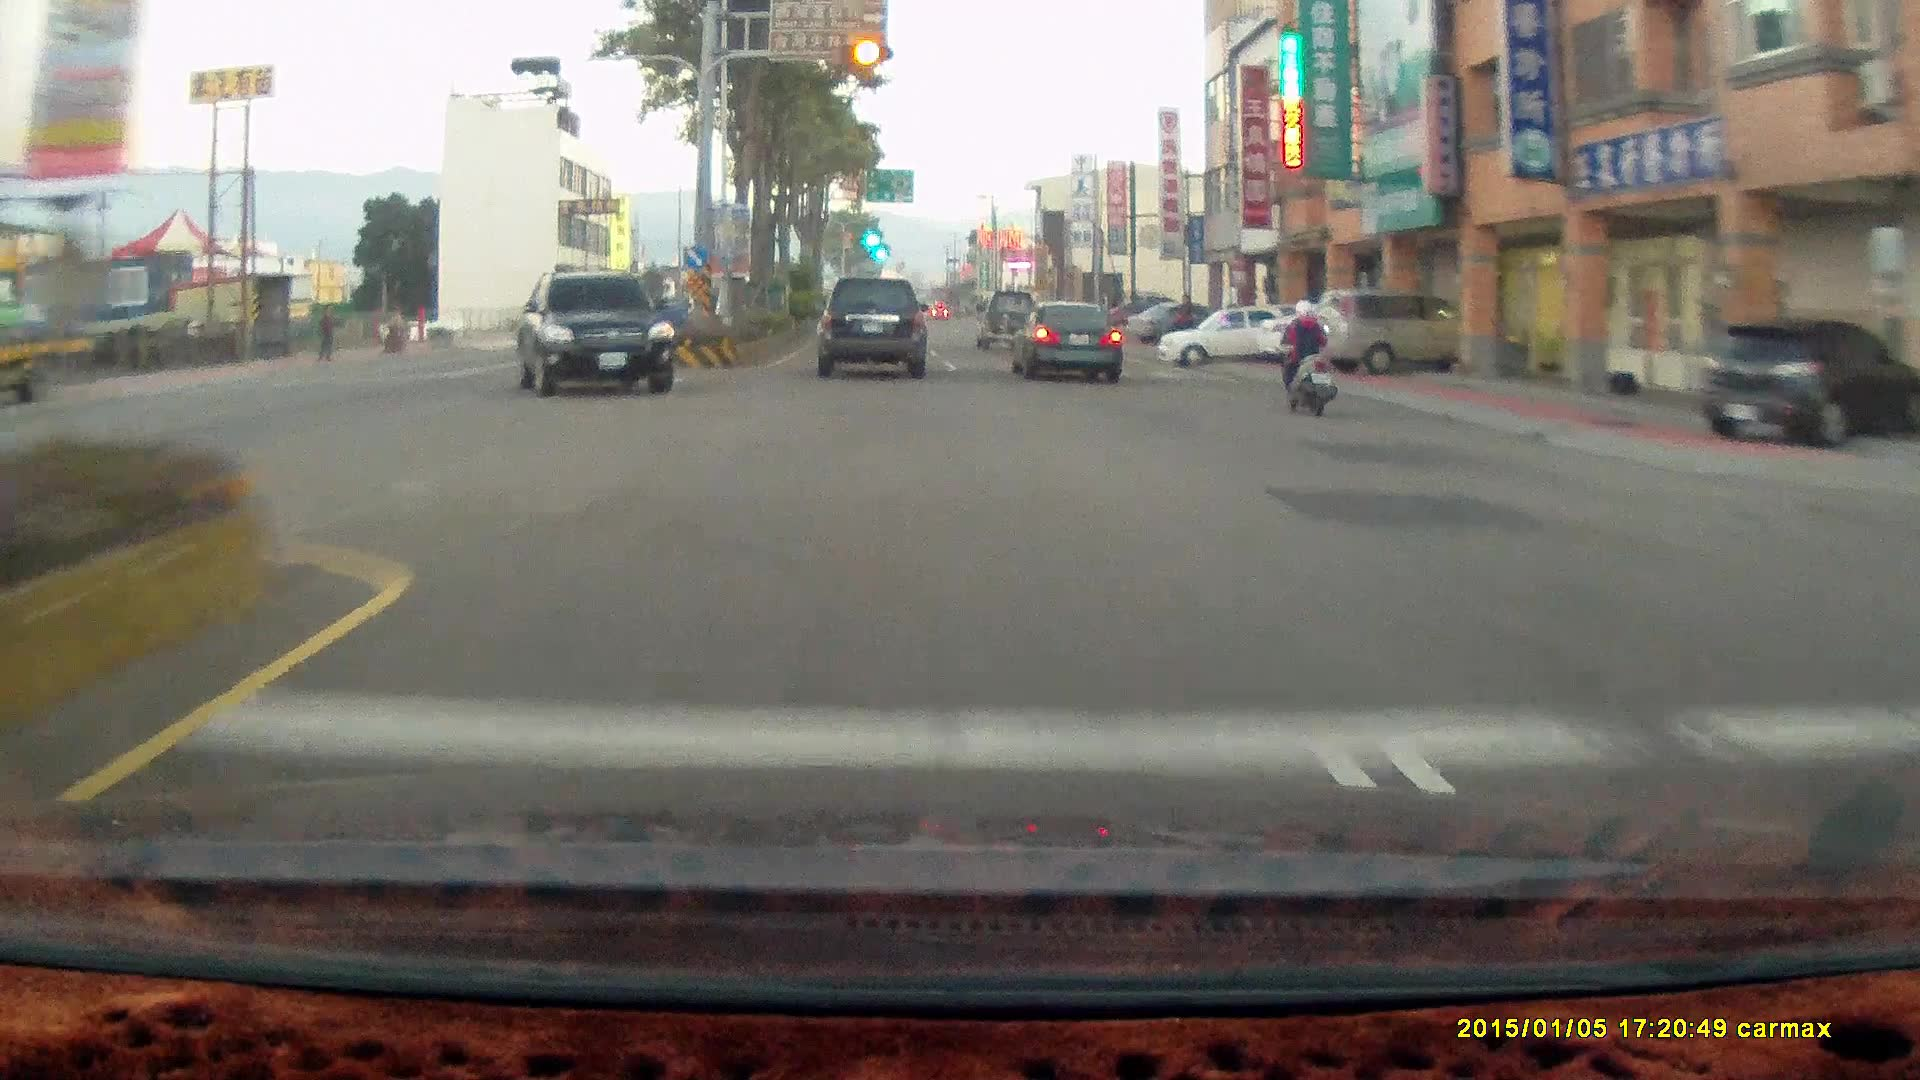pedestrian: (1173, 292, 1196, 349), (312, 307, 336, 358)
rider: (1269, 290, 1344, 421), (1274, 298, 1336, 415)
vehicle: (1697, 319, 1916, 448), (1697, 319, 1913, 447), (514, 273, 675, 399), (514, 268, 673, 393), (1314, 287, 1488, 372), (1309, 292, 1472, 378), (1261, 296, 1425, 368), (823, 274, 933, 378), (815, 276, 926, 379), (1008, 301, 1131, 384), (1162, 304, 1310, 373), (1007, 300, 1121, 383), (1155, 302, 1304, 364), (1128, 301, 1221, 344), (974, 292, 1042, 350)
